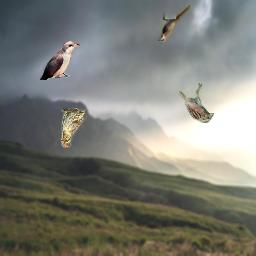Cuckoo: (40, 41, 80, 80), (158, 5, 190, 42)
Sparrow: (179, 83, 214, 123), (61, 108, 87, 148)
